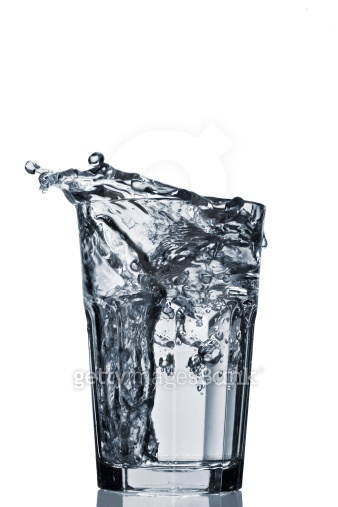glass of water: (47, 141, 273, 501)
